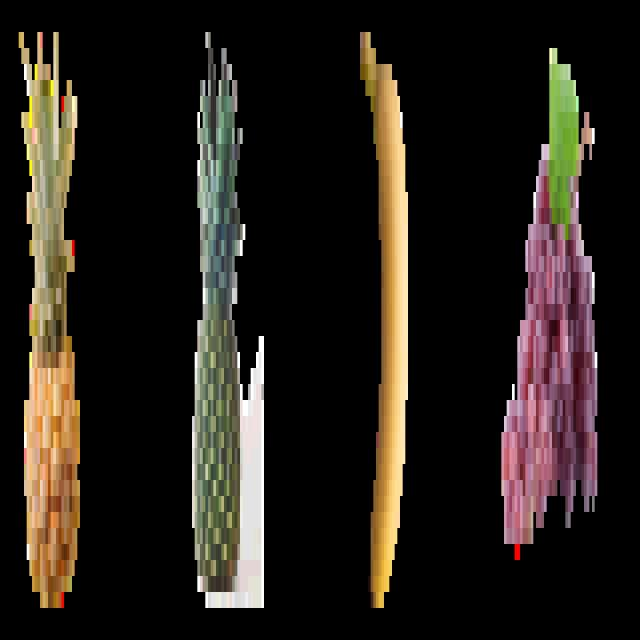bananas: (356, 10, 413, 616)
grape: (499, 54, 602, 556)
pineapples: (21, 19, 84, 613), (194, 26, 247, 609)
